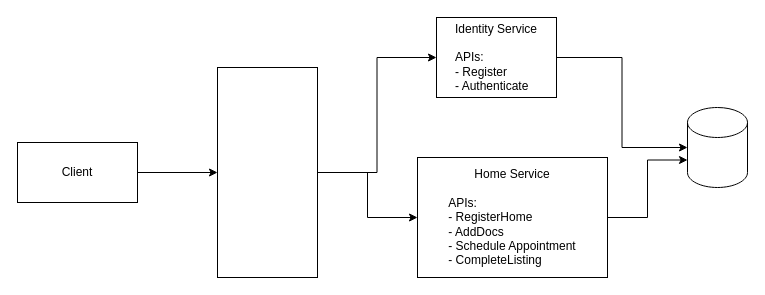
The diagram is 765 pixels wide and 295 high, and some of its shapes have lost their labels. The box of each missing label's shape, as (x1, y1, x2, y2) in pixels:
API Gateway: (216, 66, 318, 278)
PSQL: (686, 106, 748, 188)
